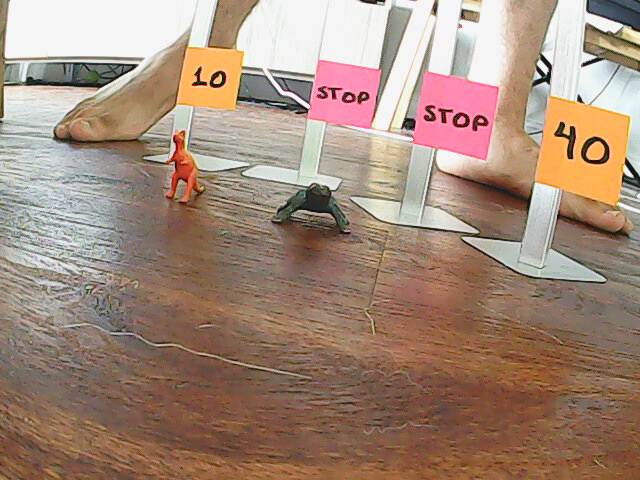10: (182, 54, 237, 104)
40: (546, 112, 622, 180)
dinosaur: (162, 125, 207, 207)
stop: (422, 88, 491, 136), (316, 69, 376, 113)
turtle: (267, 177, 357, 238)
